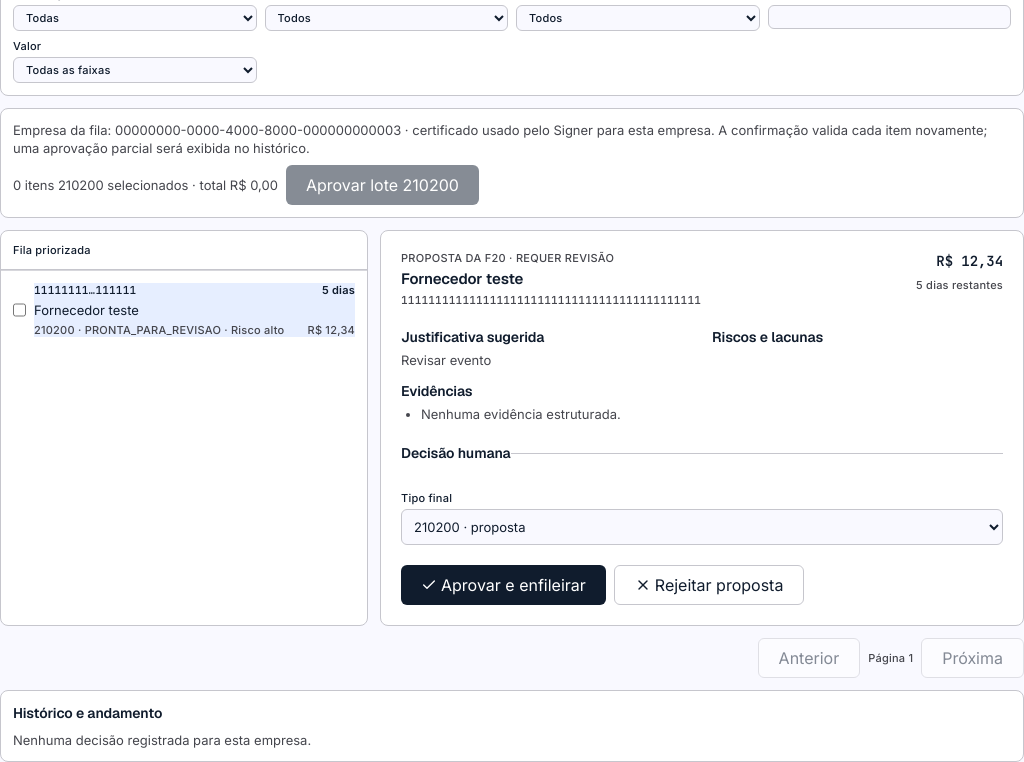
Test: inbox de manifestações F21 › mostra o evento final antes de abrir a fila para transmissão
(page scrolled)
Click the button "Aprovar e enfileirar".
click(503, 585)  # box [401,565,606,605]
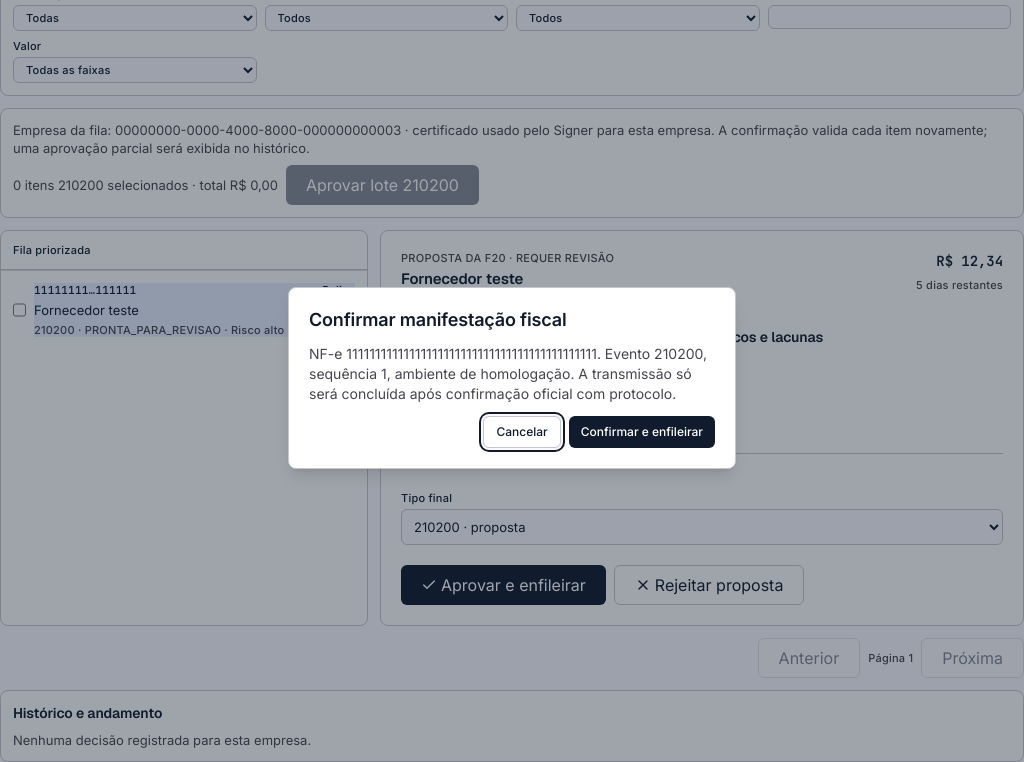
Expected: the dialog shows "Evento 210200, sequência 1, ambiente de homologação.", [309,345,707,402]
Expected: the button "Confirmar e enfileirar" is shown, [569,416,715,448]
